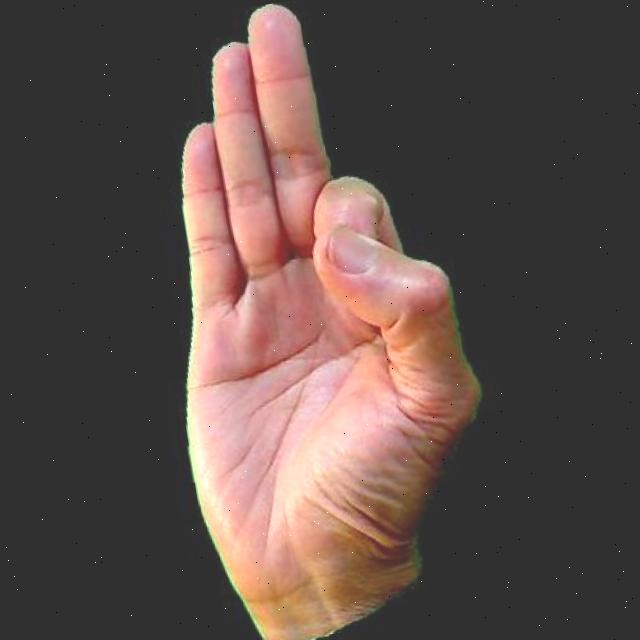f: (102, 0, 532, 640)
